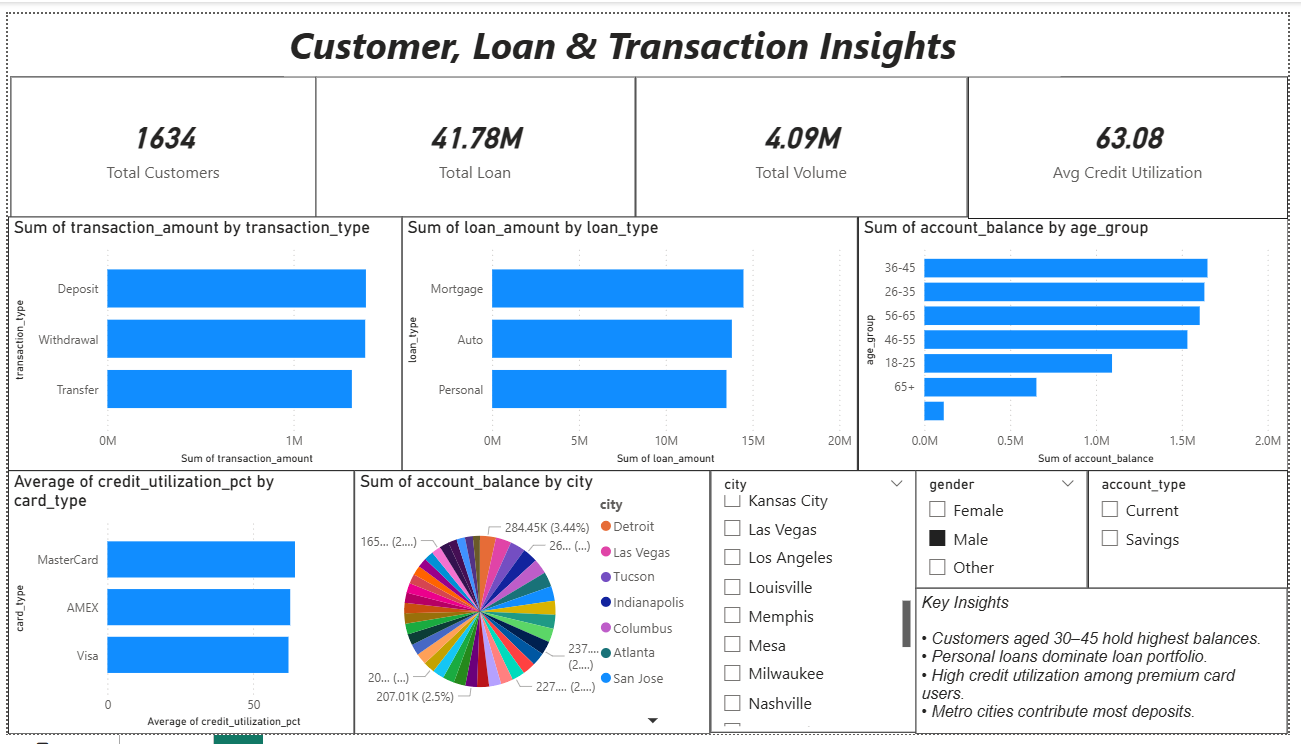

Layout of this report page (visuals, bound fields, positions):
{"tool":"powerbi","page":{"name":"Page 1","canvas":[1280,720],"ordinal":0},"visuals":[{"type":"card","fields":{"Values":["cleaned_banking_data.Total Customers"]},"box":[2,62,306,142],"z":0},{"type":"card","fields":{"Values":["cleaned_banking_data.Total Loan"]},"box":[308,62,320,142],"z":1000},{"type":"card","fields":{"Values":["cleaned_banking_data.Total Volume"]},"box":[628,62,332,142],"z":2000},{"type":"clusteredBarChart","fields":{"Category":["cleaned_banking_data.transaction_type"],"Y":["Sum(cleaned_banking_data.transaction_amount)"]},"box":[0,202,394,254],"z":3000},{"type":"clusteredBarChart","fields":{"Category":["cleaned_banking_data.loan_type"],"Y":["Sum(cleaned_banking_data.loan_amount)"]},"box":[394,202,456,254],"z":4000},{"type":"clusteredBarChart","fields":{"Category":["cleaned_banking_data.age_group"],"Y":["Sum(cleaned_banking_data.account_balance)"]},"box":[850,202,430,254],"z":5000},{"type":"pieChart","fields":{"Category":["cleaned_banking_data.city"],"Y":["Sum(cleaned_banking_data.account_balance)"]},"box":[346,456,356,264],"z":6000},{"type":"card","fields":{"Values":["cleaned_banking_data.Avg Credit Utilization"]},"box":[960,62,320,142],"z":7000},{"type":"clusteredBarChart","fields":{"Category":["cleaned_banking_data.card_type"],"Y":["Avg(cleaned_banking_data.credit_utilization_pct)"]},"box":[0,456,346,264],"z":8000},{"type":"slicer","fields":{"Values":["cleaned_banking_data.city"]},"box":[702,456,206,262],"z":9000},{"type":"slicer","fields":{"Values":["cleaned_banking_data.account_type"]},"box":[1080,456,200,118],"z":10000},{"type":"slicer","fields":{"Values":["cleaned_banking_data.gender"]},"box":[908,456,172,118],"z":11000},{"type":"textbox","box":[908,574,372,146],"z":11001},{"type":"textbox","box":[276,0,776,62],"z":11002}]}

Visuals, with their boxes in screenshot pixels (x1, y1, x2, y2), scaled from the page's 1280x720 canvas onto the 1301x744 screenshot:
card - cleaned_banking_data.Total Customers: rect(2, 64, 313, 211)
card - cleaned_banking_data.Total Loan: rect(313, 64, 638, 211)
card - cleaned_banking_data.Total Volume: rect(638, 64, 976, 211)
clusteredBarChart - cleaned_banking_data.transaction_type x Sum(cleaned_banking_data.transaction_amount): rect(0, 209, 400, 471)
clusteredBarChart - cleaned_banking_data.loan_type x Sum(cleaned_banking_data.loan_amount): rect(400, 209, 864, 471)
clusteredBarChart - cleaned_banking_data.age_group x Sum(cleaned_banking_data.account_balance): rect(864, 209, 1300, 471)
pieChart - cleaned_banking_data.city x Sum(cleaned_banking_data.account_balance): rect(352, 471, 714, 743)
card - cleaned_banking_data.Avg Credit Utilization: rect(976, 64, 1300, 211)
clusteredBarChart - cleaned_banking_data.card_type x Avg(cleaned_banking_data.credit_utilization_pct): rect(0, 471, 352, 743)
slicer - cleaned_banking_data.city: rect(714, 471, 923, 742)
slicer - cleaned_banking_data.account_type: rect(1098, 471, 1300, 593)
slicer - cleaned_banking_data.gender: rect(923, 471, 1098, 593)
textbox: rect(923, 593, 1300, 743)
textbox: rect(281, 0, 1069, 64)
